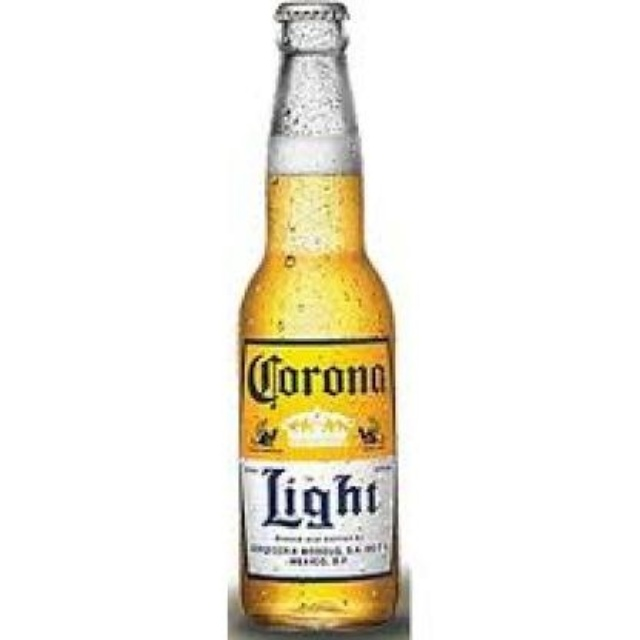trash: (240, 0, 397, 629)
